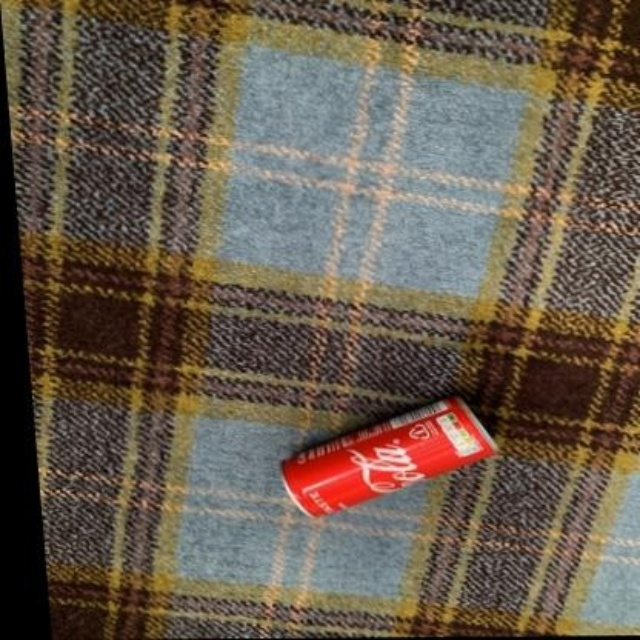trash: (282, 397, 495, 515)
